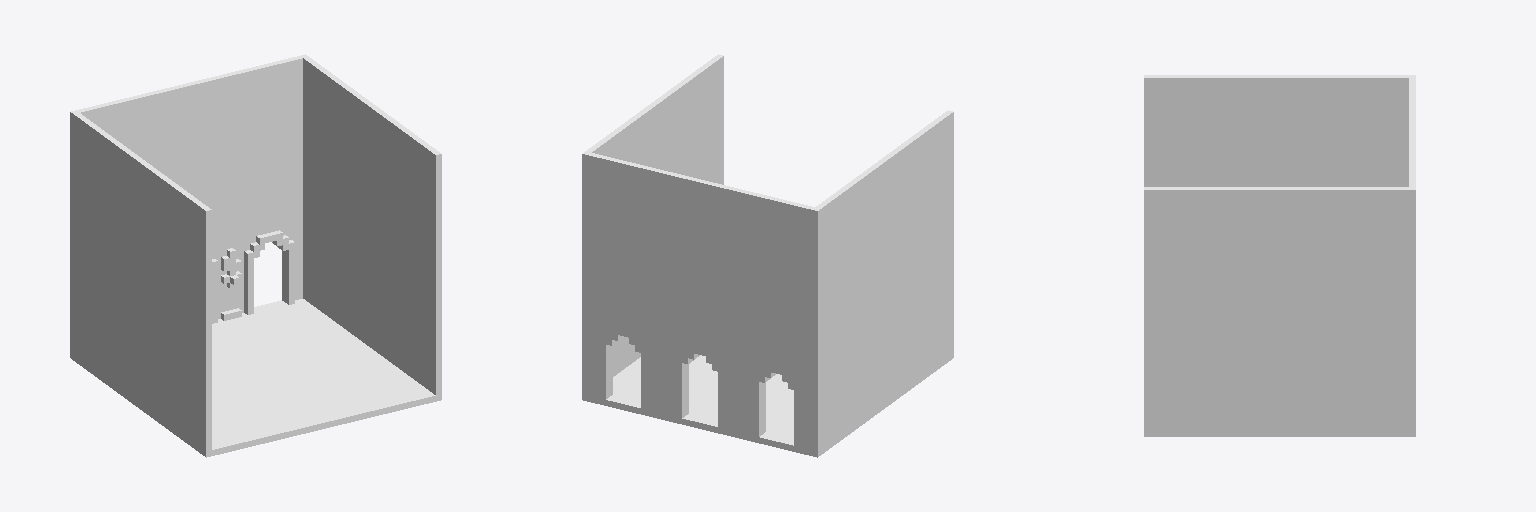
The model's file is SalaUm.obj.
3 views of the same model, side by side, from view 1: azimuth 30°, elevation 25°; view 2: azimuth 150°, elevation 25°; view 3: azimuth 270°, elevation 25° (orthographic).
Parts seen in each view (by area): view 1: SalaUm; view 2: SalaUm; view 3: SalaUm.
Part boxes in pixels (bbox=[...]): SalaUm: bbox=[70, 54, 441, 457]; SalaUm: bbox=[582, 54, 953, 457]; SalaUm: bbox=[1144, 75, 1415, 436].
Size of the model in its own units: 40 by 40 by 40.